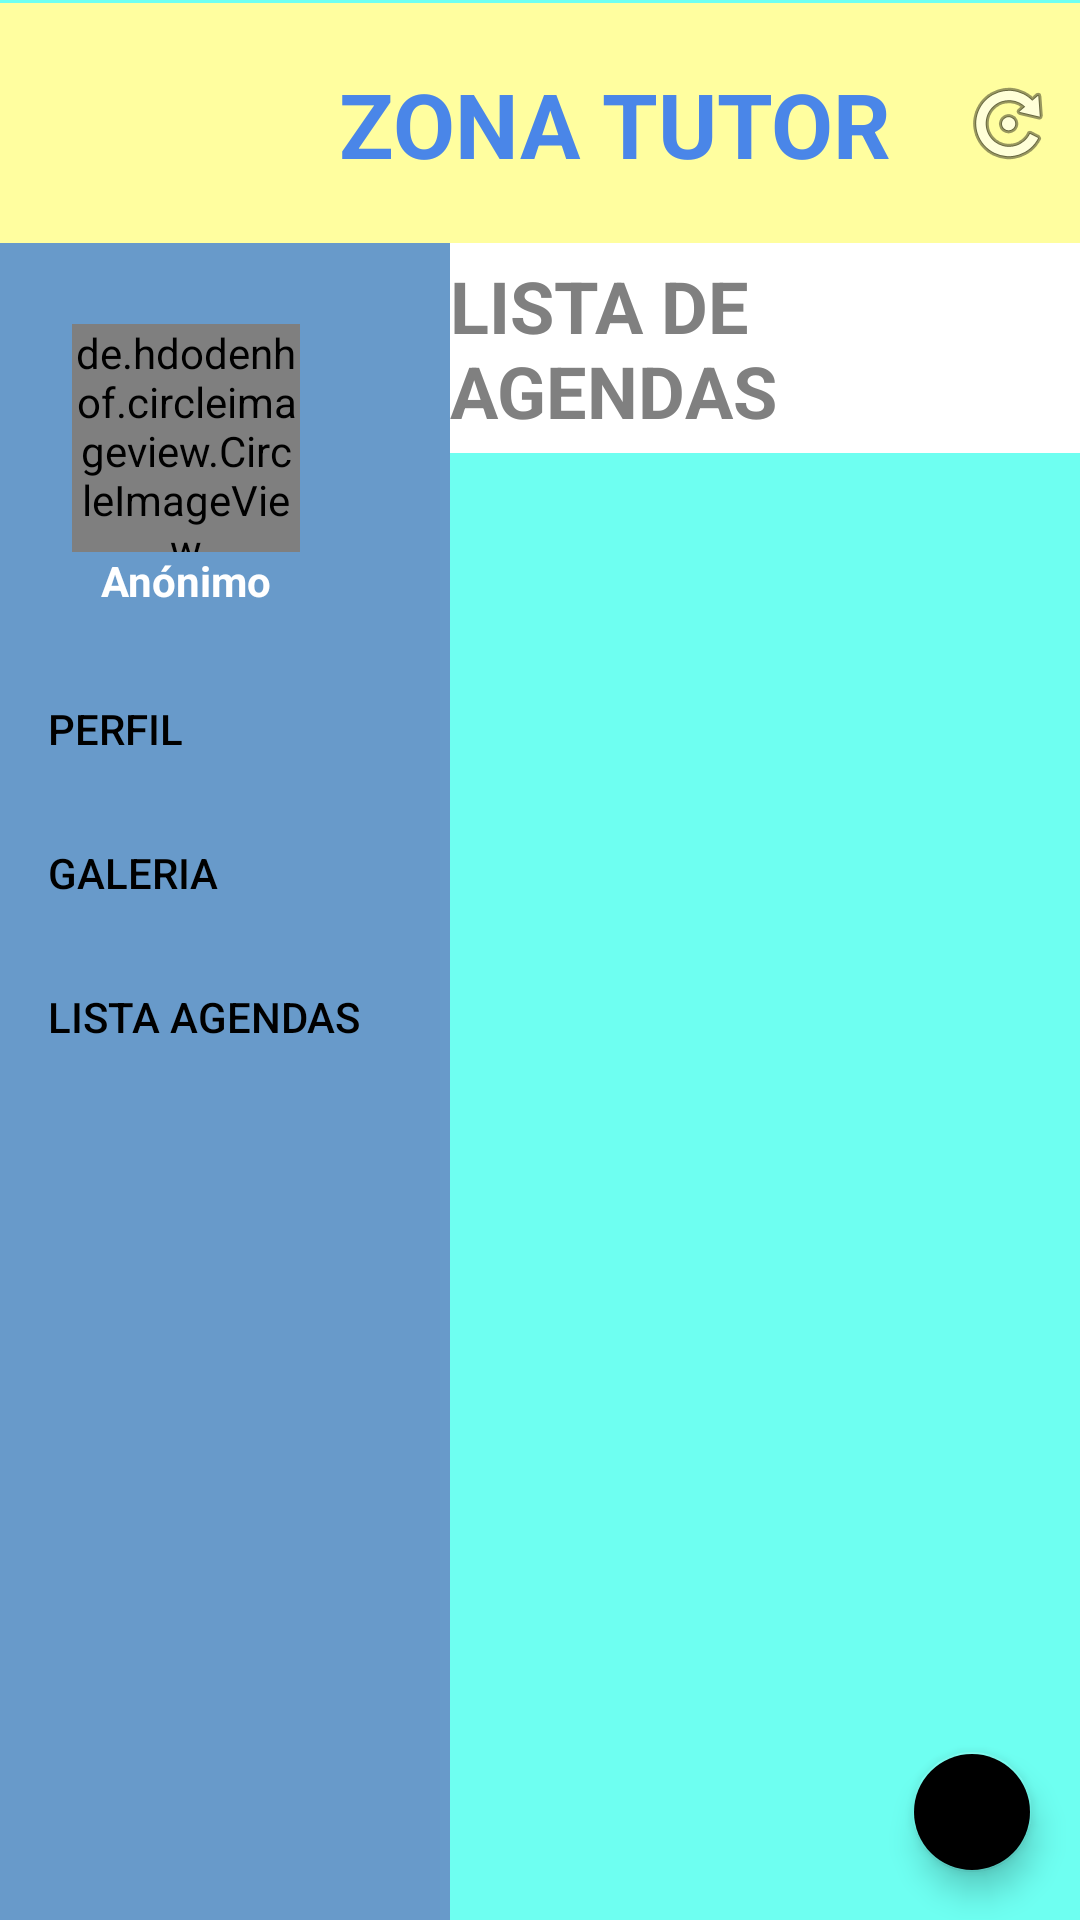

Named icons in this screenshot (1080*1920) and their bounding boxes, (x1, y1, x2, y2):
rotate: (973, 88, 1043, 159)
